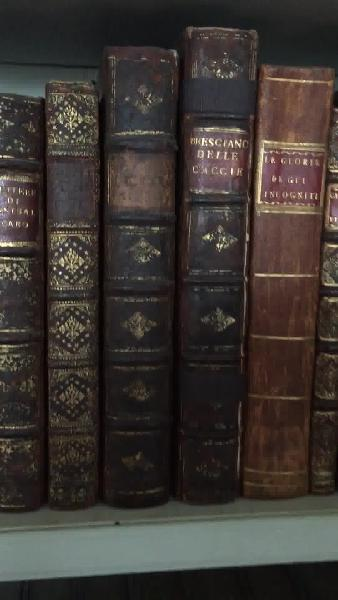Aa6-29: (2, 86, 45, 509)
Aa6-30: (38, 77, 108, 511)
Aa6-31: (103, 47, 183, 515)
Aa6-32: (180, 27, 242, 505)
Aa6-33: (244, 54, 338, 516)
